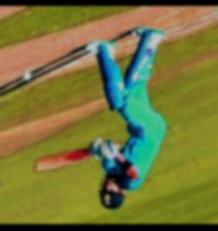batsman: (44, 16, 196, 216)
